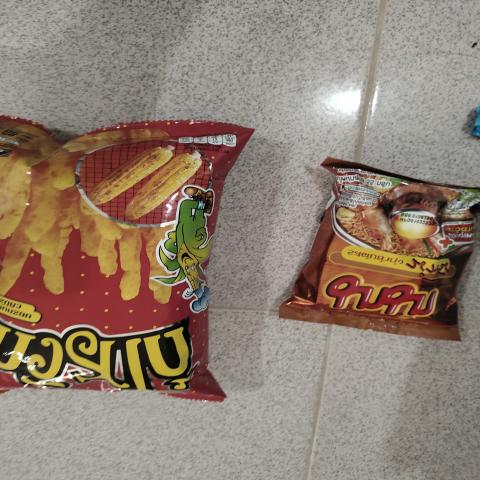mama: (312, 172, 480, 331)
twisco: (0, 125, 219, 394)
